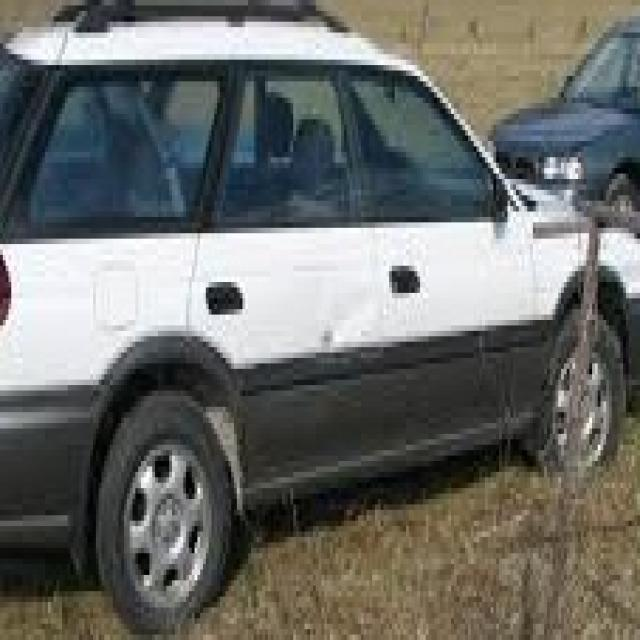minor: (310, 314, 352, 355)
